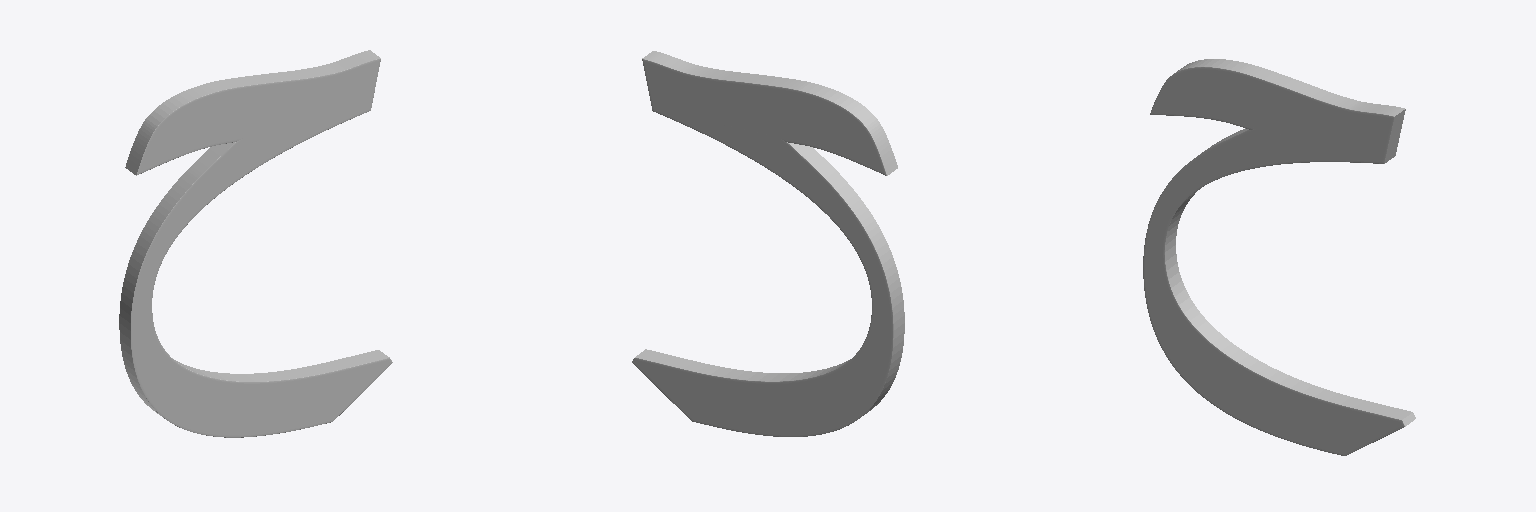
The model's file is Kha.obj.
3 renders of one model, left to right at view 1: azimuth 30°, elevation 25°; view 2: azimuth 150°, elevation 25°; view 3: azimuth 330°, elevation 25°, orthographic.
Visible parts, largest first — view 1: Curve.005; view 2: Curve.005; view 3: Curve.005.
Part boxes in pixels (x1,y1,x2,y2): Curve.005: (119, 50, 392, 437); Curve.005: (632, 51, 904, 436); Curve.005: (1143, 59, 1415, 455).
Bounding box in the file's own units: 3.18 × 4.14 × 0.2566.